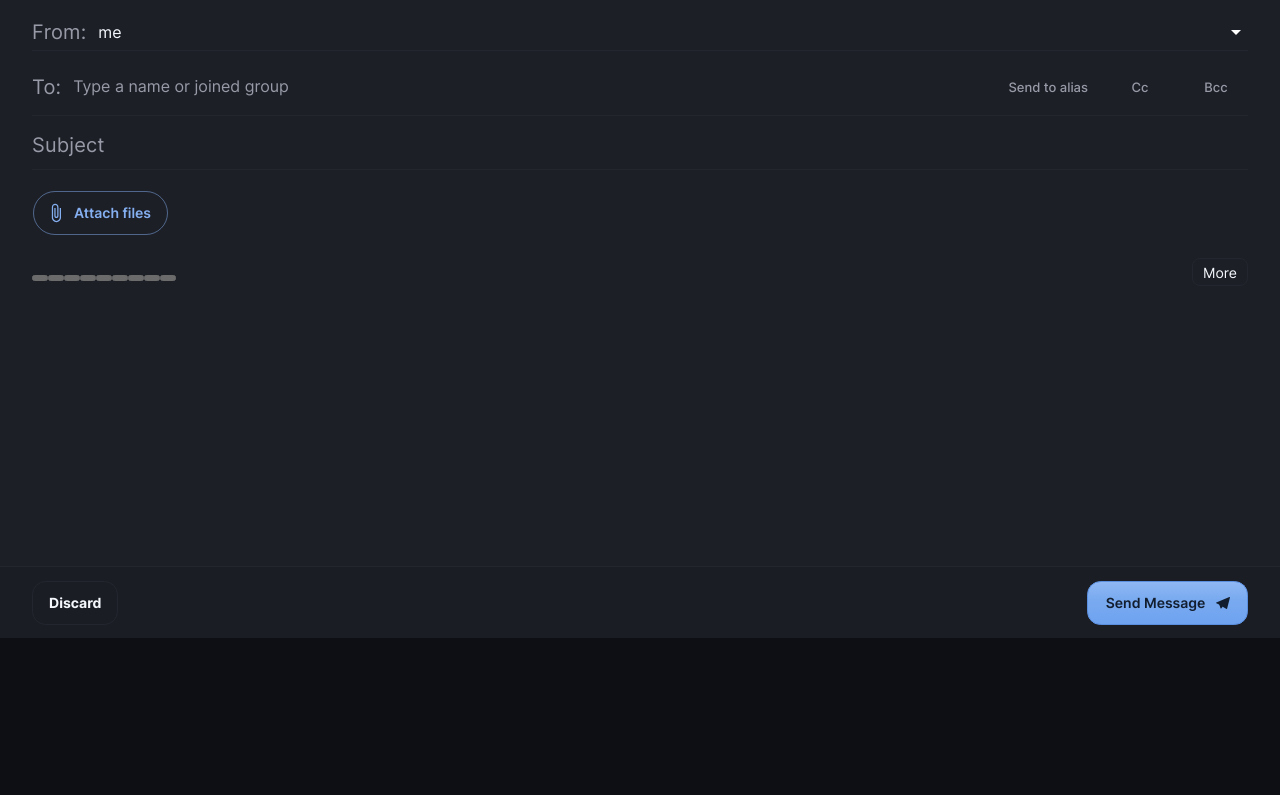
Test: Compose: what Send to alias, Cc and Bcc mean › says under Bcc that Bcc cannot be used with an alias
Click the button "Bcc" at (1216, 87), box [1184,65,1248,109]
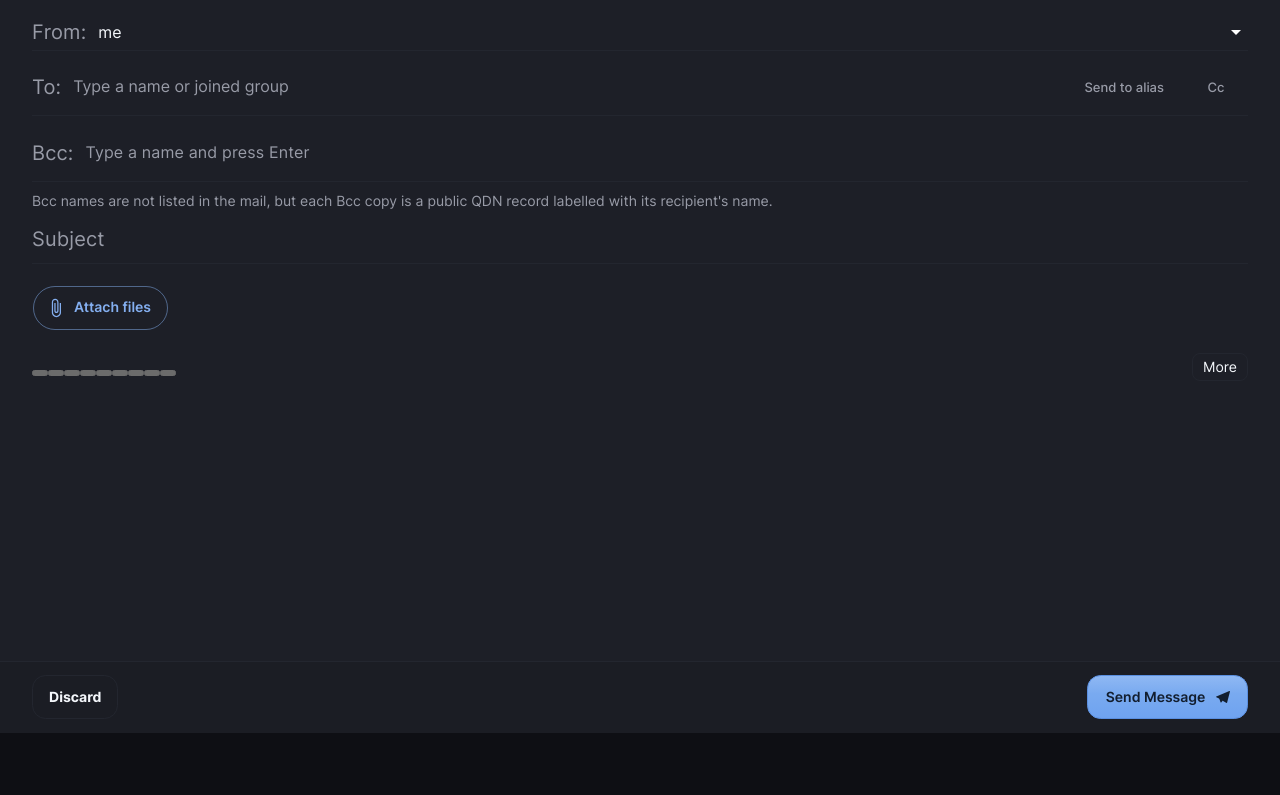
Click the button "Send to alias" at (1124, 87), box [1076,65,1172,109]
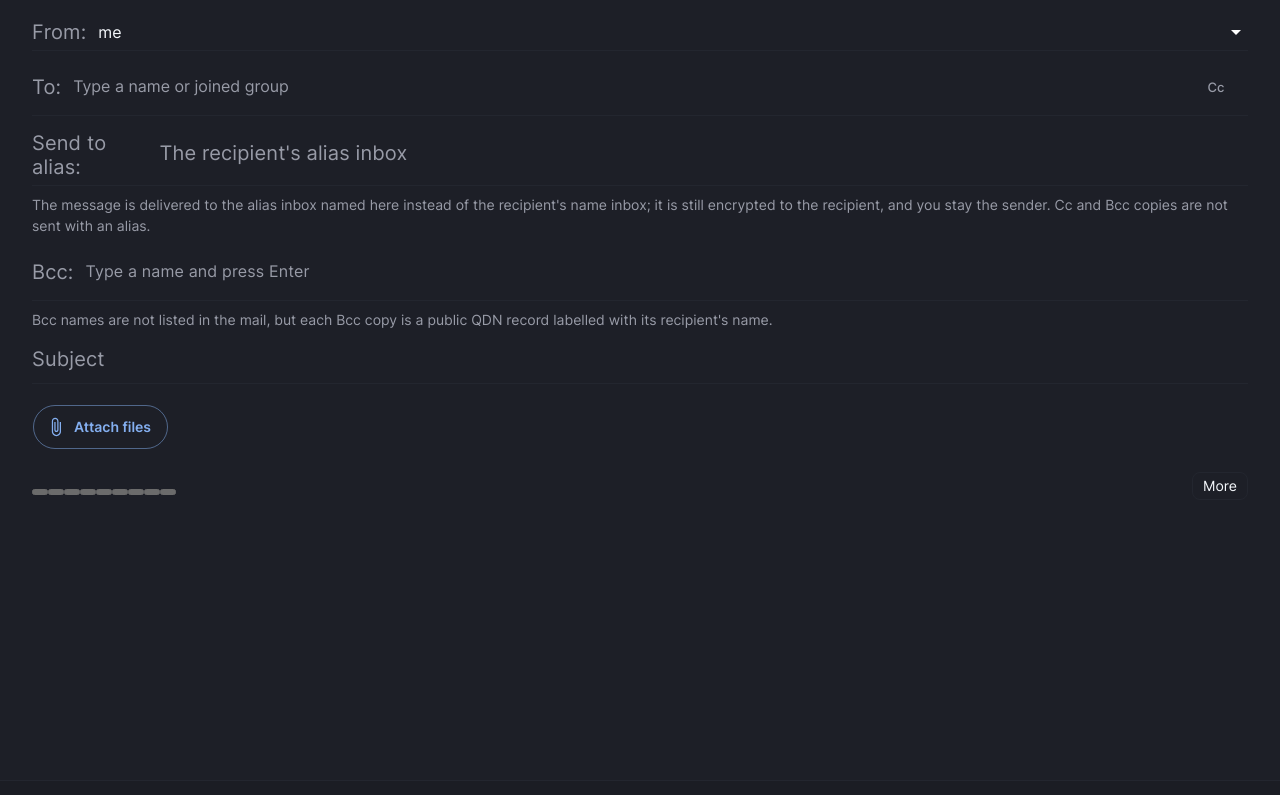
Type "bob-box" into the field with placeholder "The recipient's alias inbox" at (704, 155), box [160,139,1248,171]
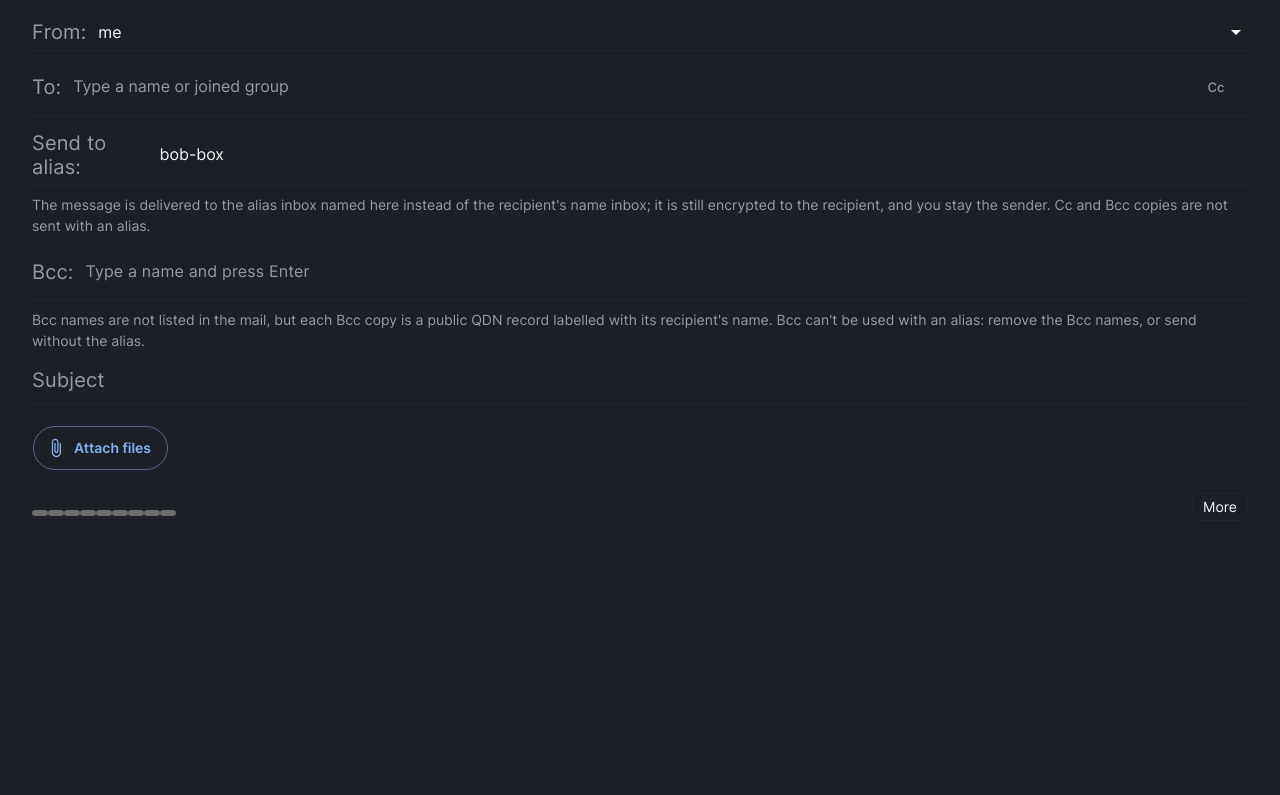
Check: the text "Bcc names are not listed in the mail" shows "Bcc can't be used with an alias: remove the Bcc names, or send without the alias.", box [32,311,1197,349]
